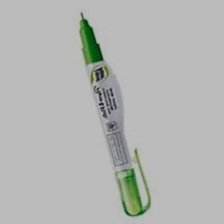correction_fluid: (77, 8, 151, 219)
